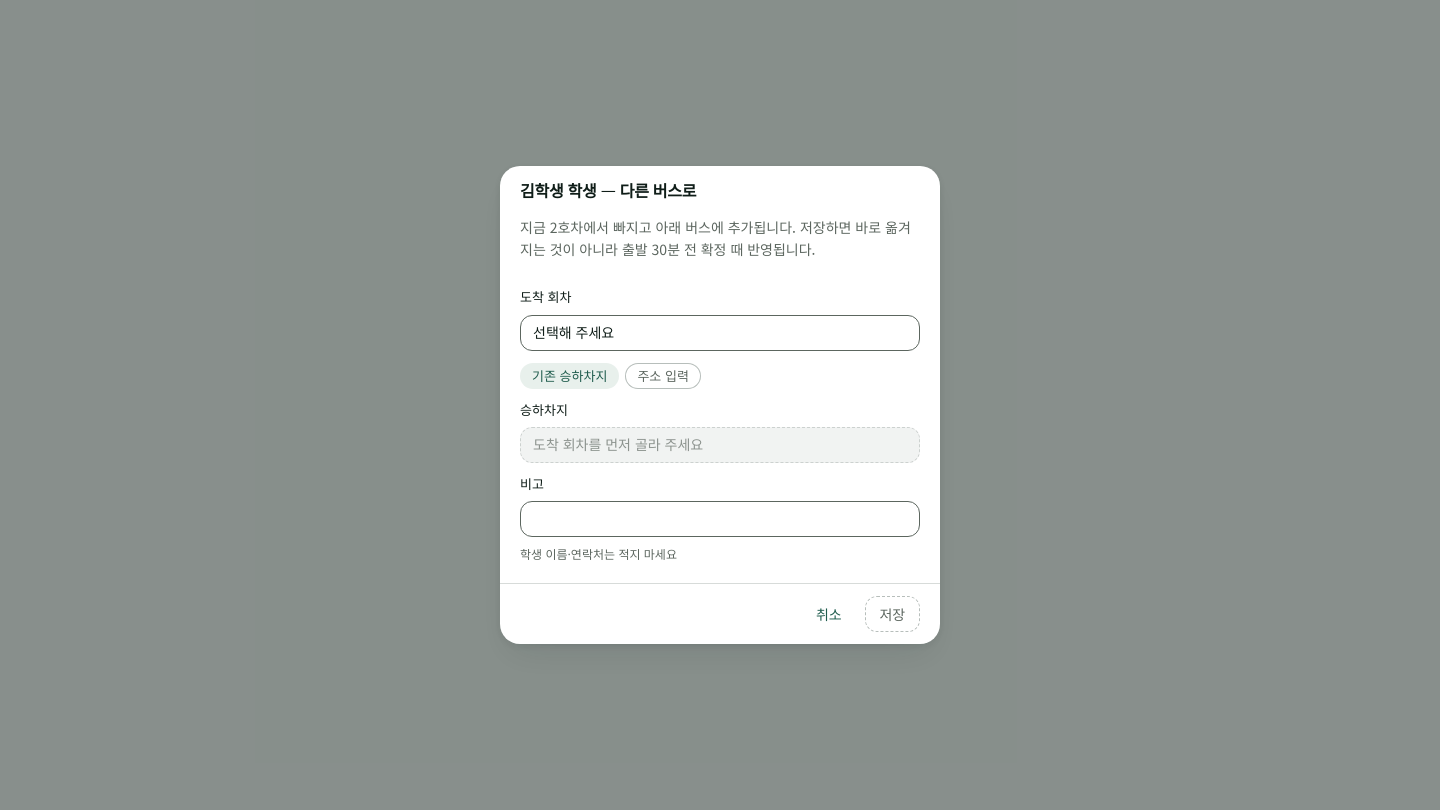
Test: StudentTransferDialog — 배타 입력·대기 저장·에러 › 403 CHANGE_WINDOW_CLOSED 는 쉬운 문구로 보여 주고 영문 코드는 화면에 내지 않는다
Step 1. Select "3호차 · 08:10 출발" in the dropdown labelled "도착 회차" → (720, 332), box [520, 314, 920, 350]
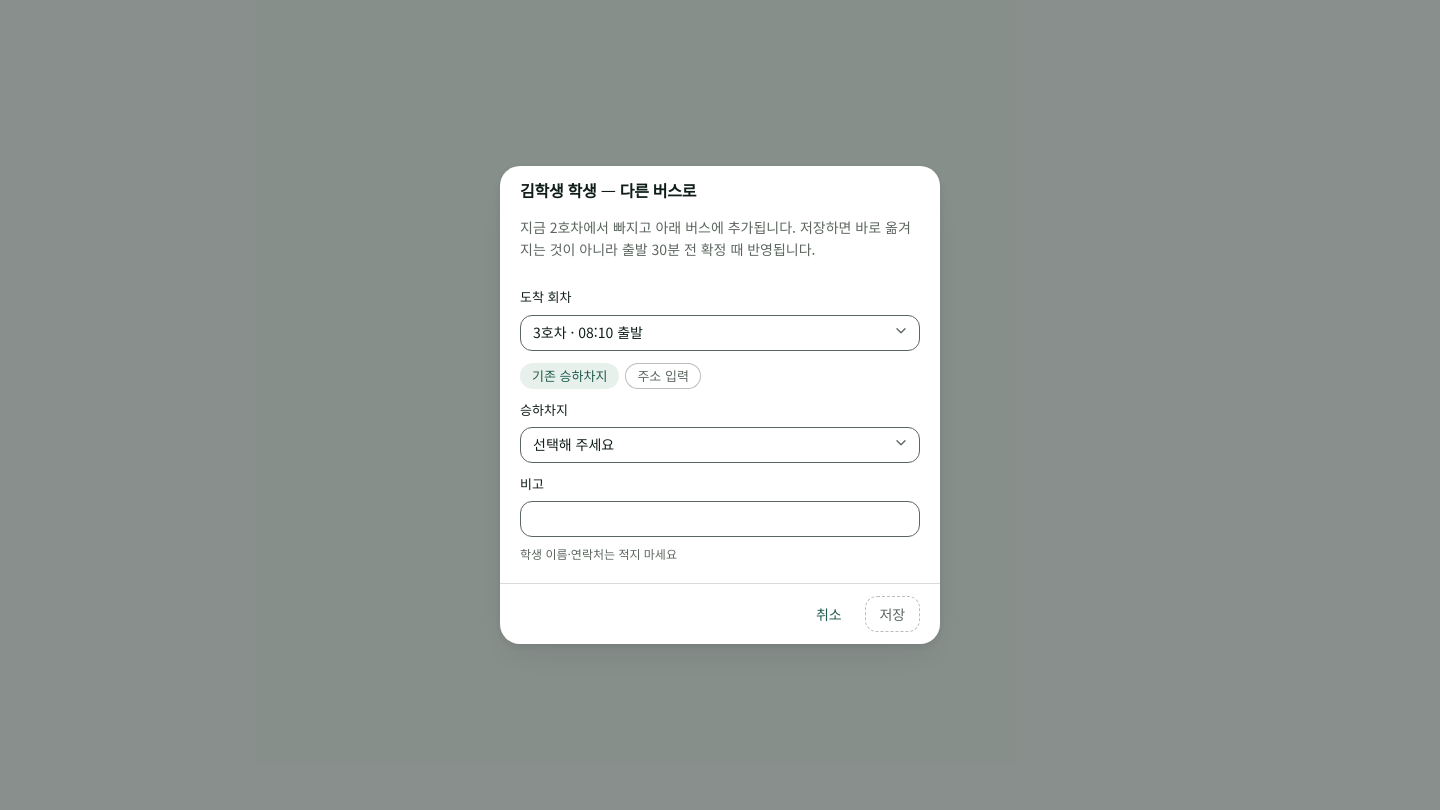
Step 2. Select "후문" in the dropdown labelled "승하차지" → (720, 445), box [520, 427, 920, 463]
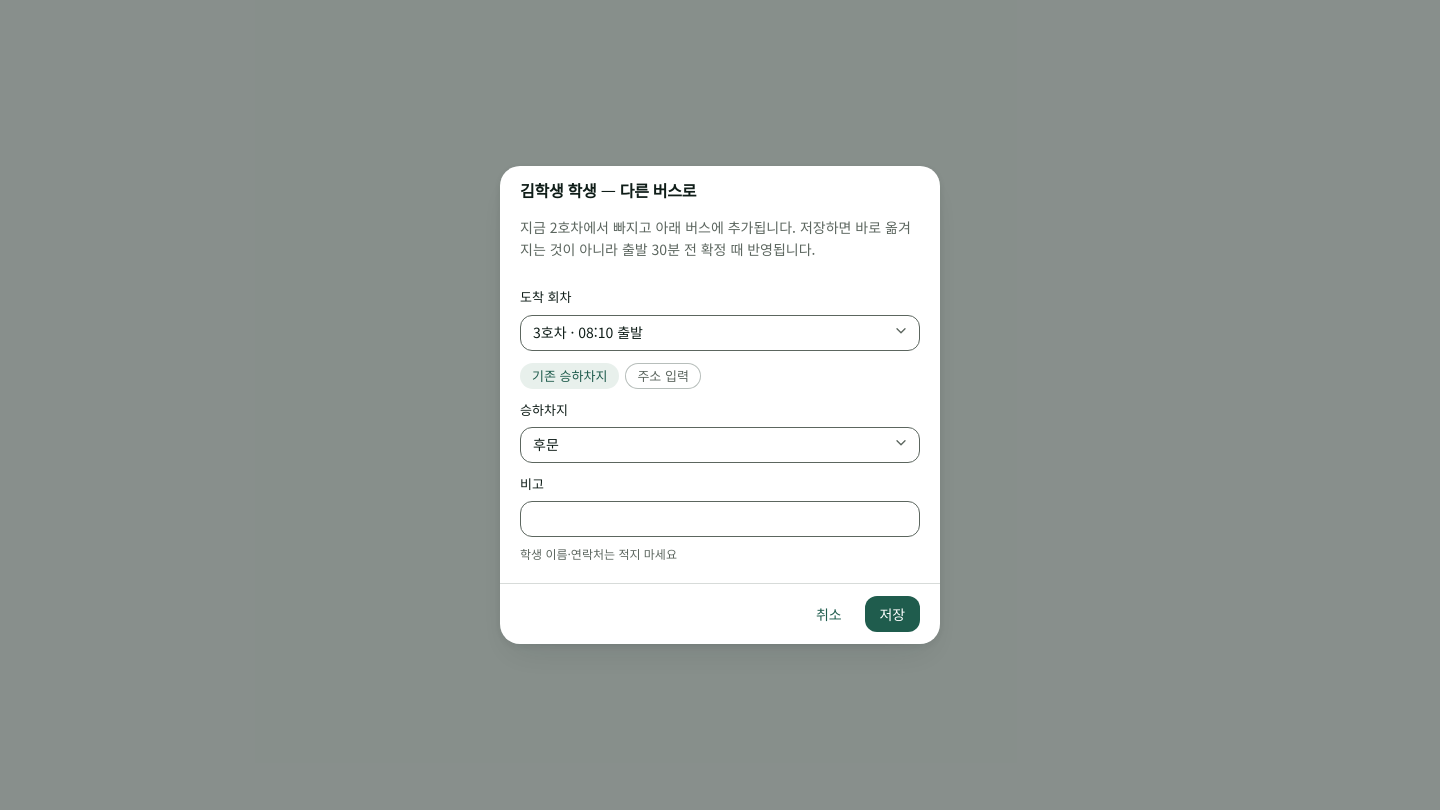
Step 3. Click the button "저장" → (892, 614), box [864, 596, 920, 632]
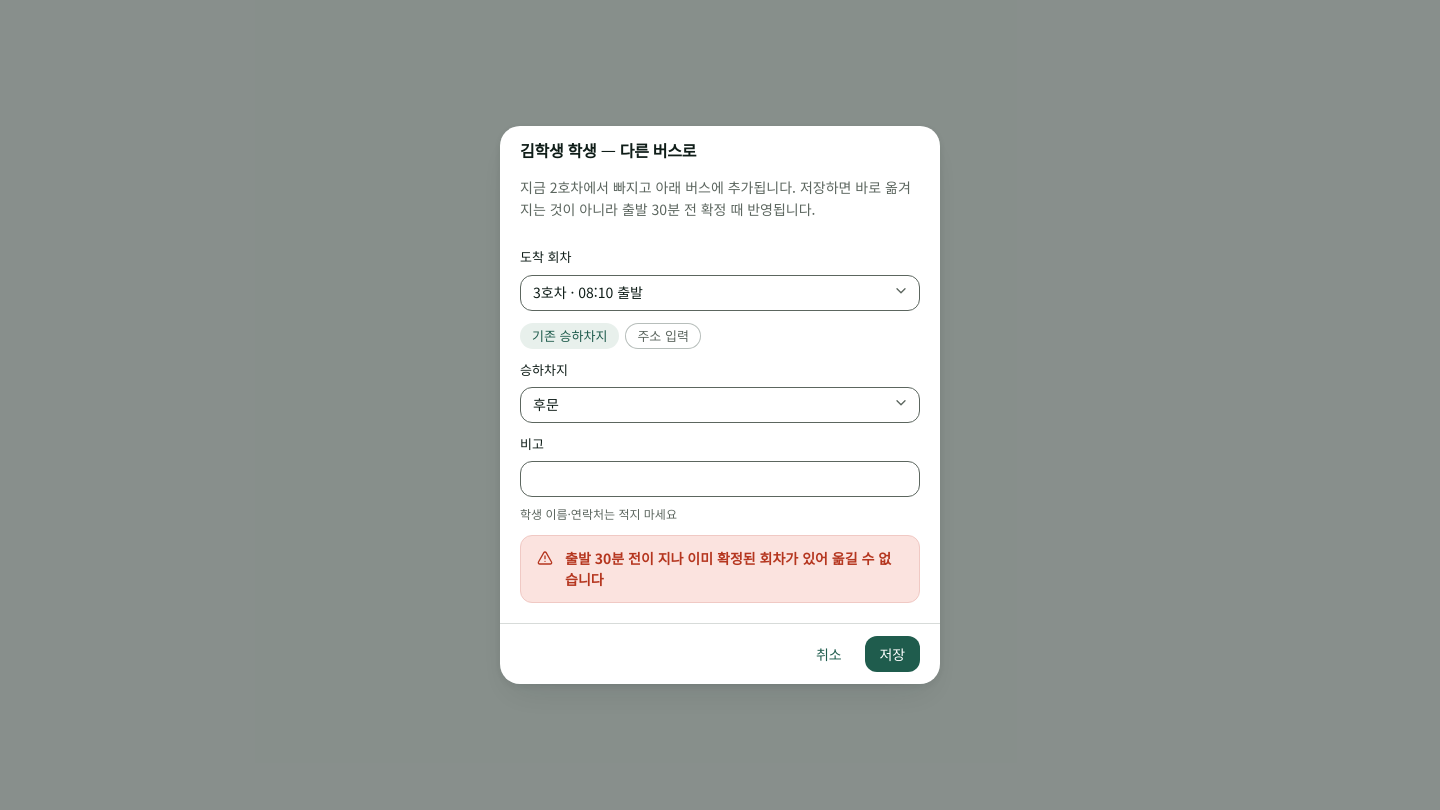
Check: the text "출발 30분 전이 지나 이미 확정된 회차가 있어 옮길 수 없습니다" is shown, box [565, 548, 903, 590]
